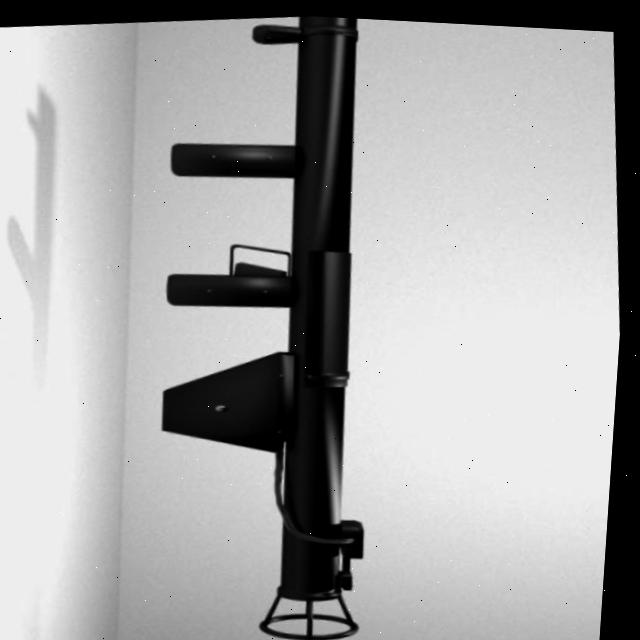rocket: (106, 6, 433, 640)
